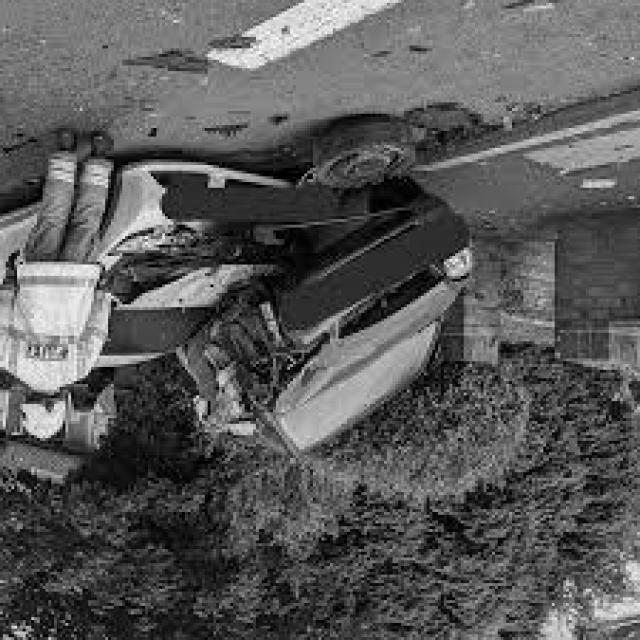severe: (0, 152, 486, 465)
